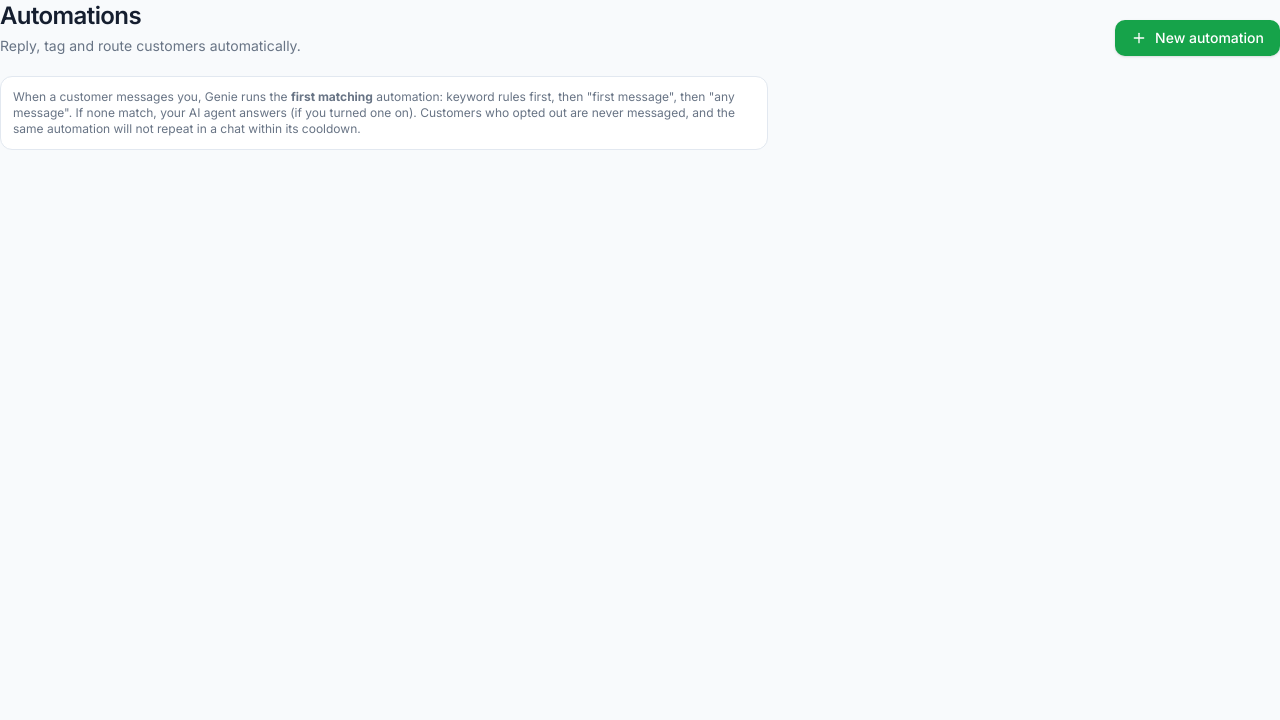
Automations › does not let a wait be the last step
The image size is (1280, 720).
Click the button "New automation" at (1198, 38), box [1115,20,1279,56]
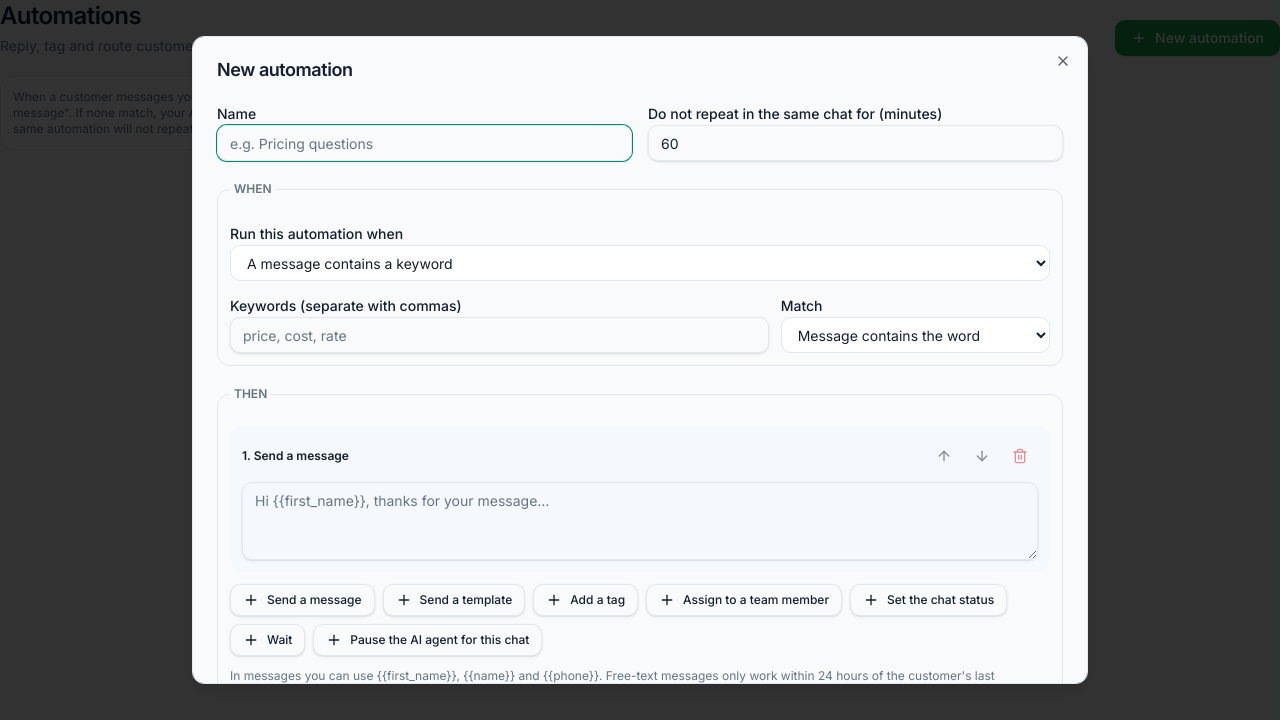
Type "x" into the field labelled "Name" at (424, 143), box [217,125,632,161]
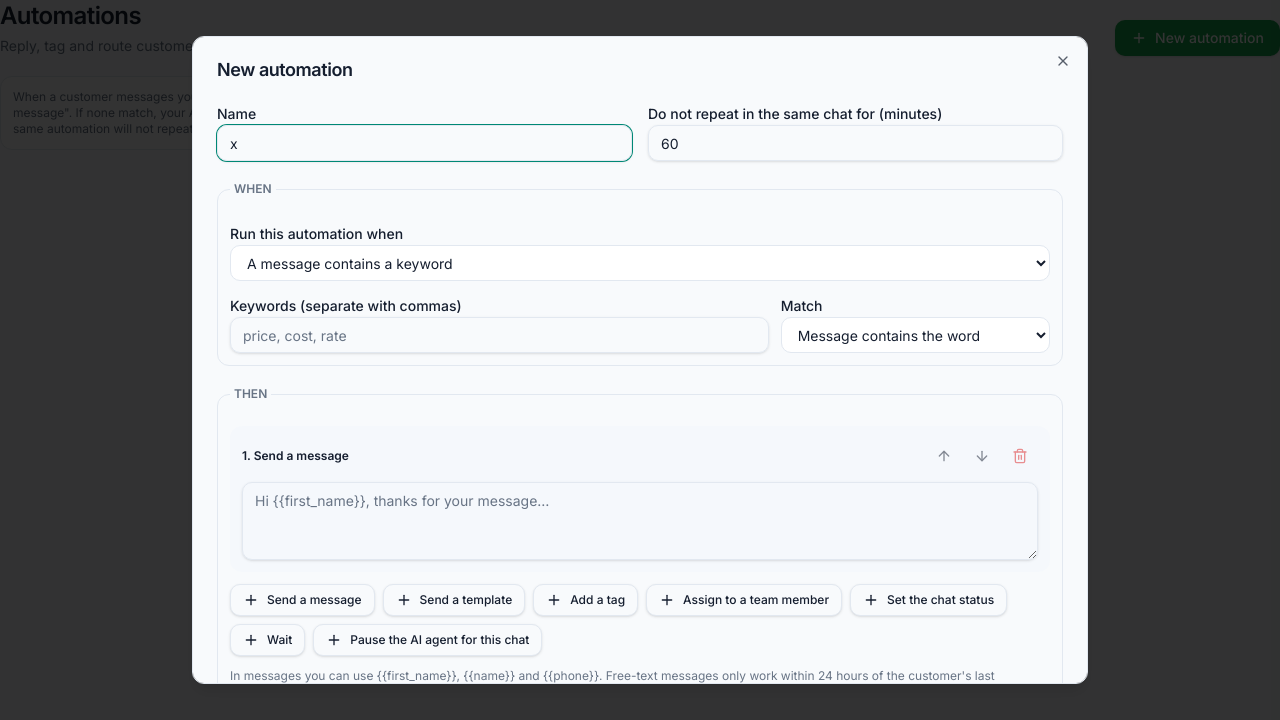
Click the button "Wait" at (268, 640), box [230,624,305,656]
(page scrolled)
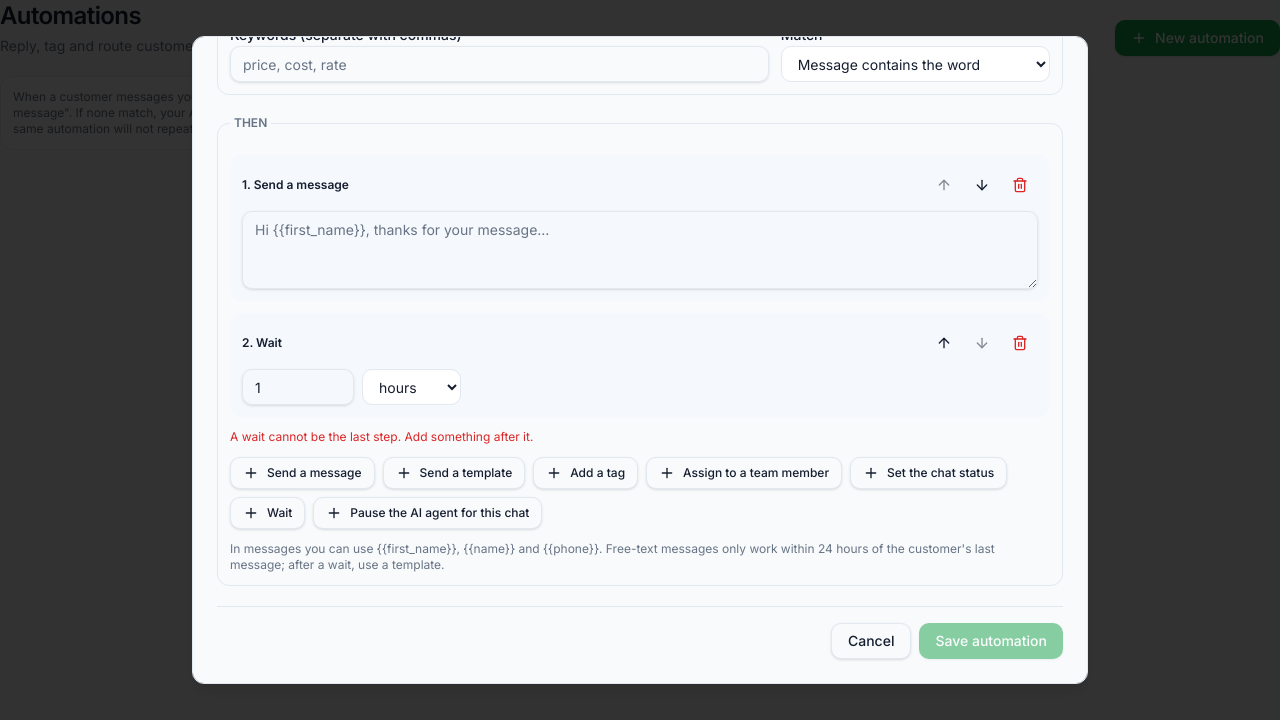
Check: the text "A wait cannot be the last step. Add something after it." is shown, box [230,429,533,444]
Check: the button "Save automation" is disabled, box [920,623,1063,659]
